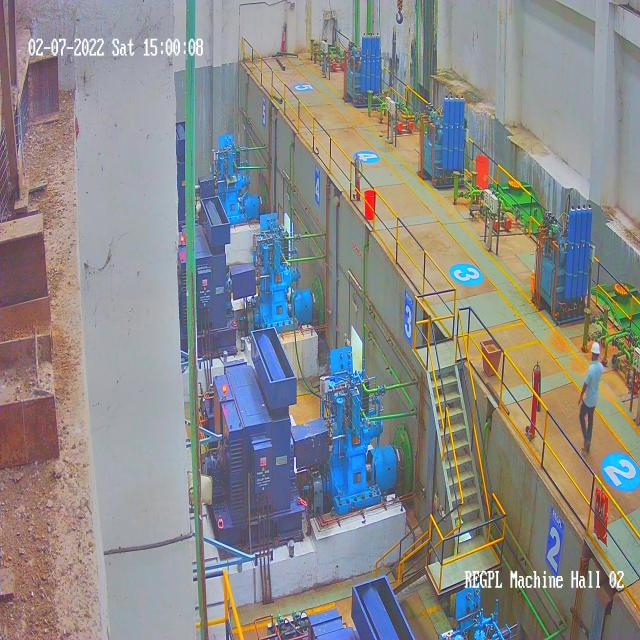Boots: (581, 438, 589, 455)
Helmet: (590, 341, 601, 354)
